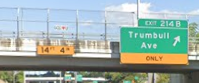1: (39, 46, 45, 54)
4: (58, 45, 66, 54), (43, 45, 49, 54)
overheadsign: (34, 44, 75, 56)
